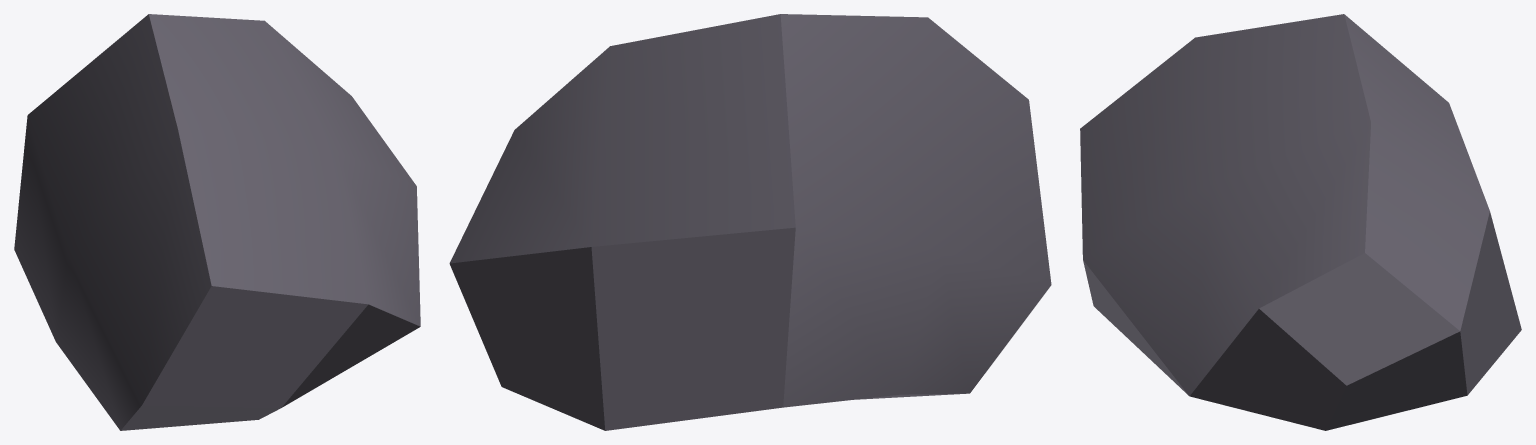
File: Rocha2.fbx
The picture shows the model from 3 angles, left to right: view 1: azimuth 30°, elevation 25°; view 2: azimuth 150°, elevation 25°; view 3: azimuth 270°, elevation 25°; orthographic projection. The views are drawn at different scales.
Visible parts, largest first — view 1: rock.001; view 2: rock.001; view 3: rock.001.
Part boxes in pixels (left/top/right/bottom): rock.001: left=14, top=14, right=420, bottom=430; rock.001: left=449, top=14, right=1051, bottom=430; rock.001: left=1080, top=14, right=1521, bottom=430.
Bounding box in the file's own units: 112 × 98.73 × 117.
Materials: 1 (1 with a texture image).
